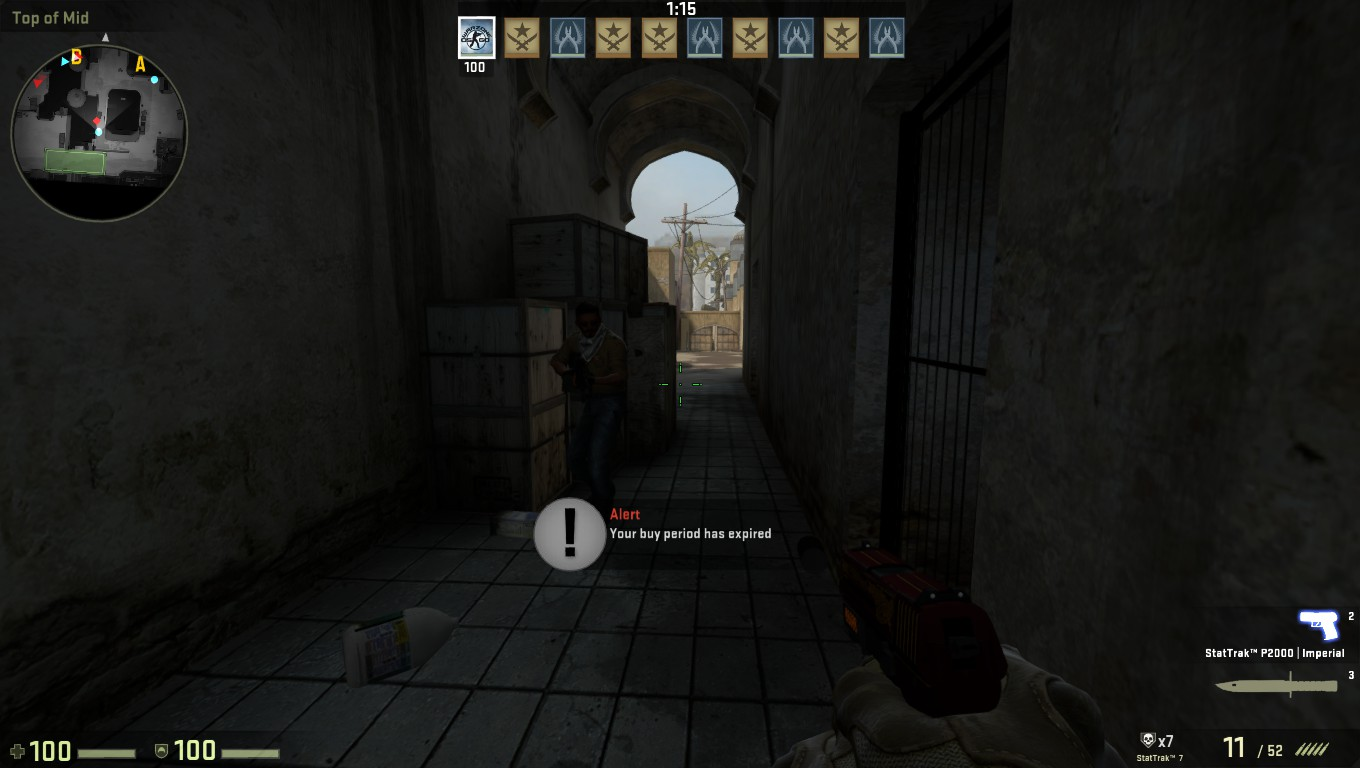t: (551, 299, 631, 515)
th: (564, 294, 609, 348)
